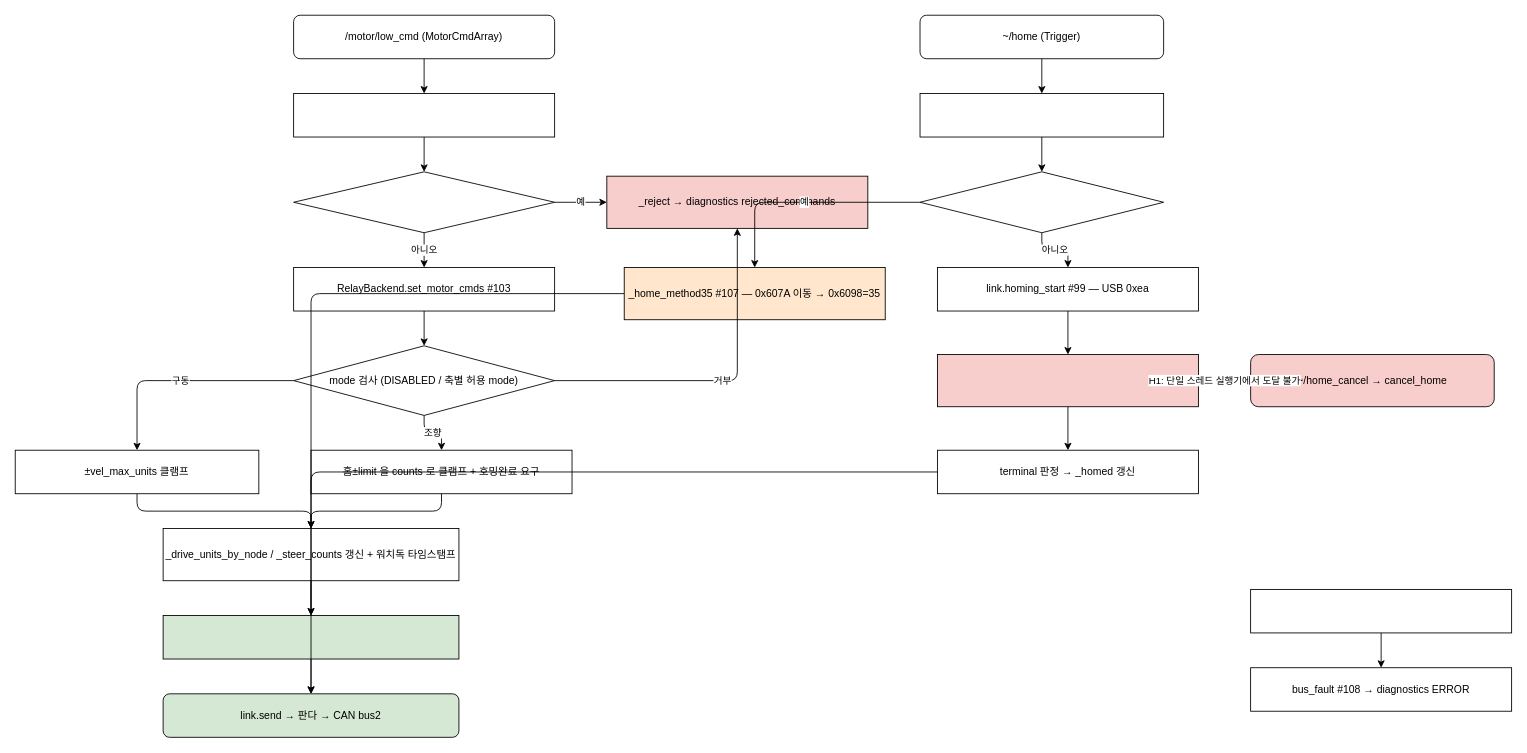
This 1527x753 diagram has some shape labels left out. Each missing label, with the centre of its shape:
_poll_bus_health #109 — USB 0xc3: point (1381, 611)
CanRelayNode._on_low_cmd #111: point (424, 115)
homing_method == 35 ?: point (1041, 202)
homing_status #102 폴링 루프 (호출 스레드 블록): point (1067, 380)
MotorCmd 필드 접근 실패?: point (424, 202)
RelayBackend._loop #62 — 20 Hz 재송신: point (310, 637)
RelayBackend.home #55: point (1041, 115)
